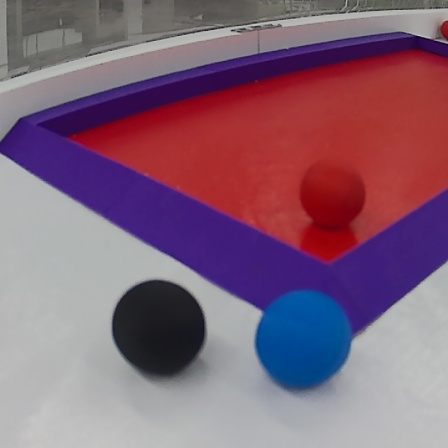black: (113, 277, 207, 381)
blue: (252, 290, 356, 393)
red: (298, 159, 366, 232)
red_aim: (1, 32, 448, 344)
